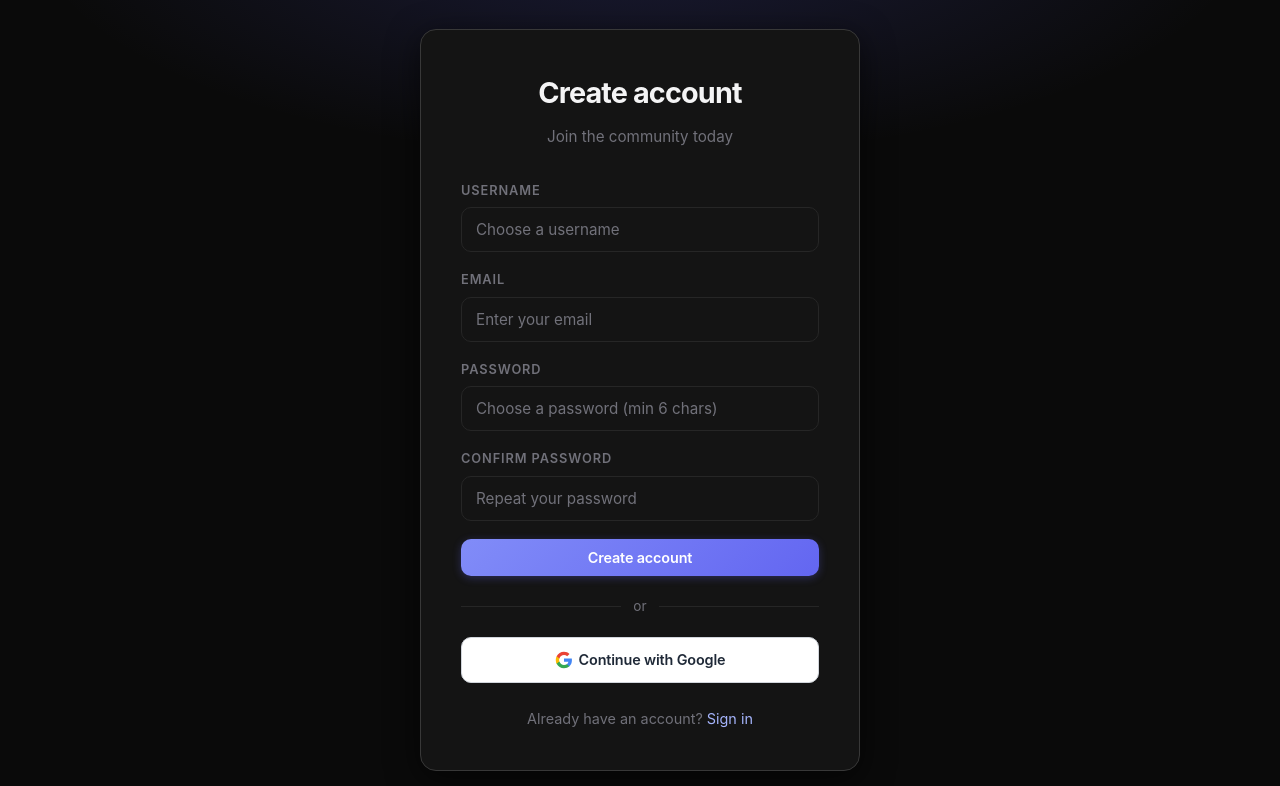
RegisterPage › Client-side validation › shows error when username is too short
The image size is (1280, 786).
Type "ab" into the field with placeholder "Choose a username".
click(640, 230); type("ab")  # box [461, 207, 819, 252]
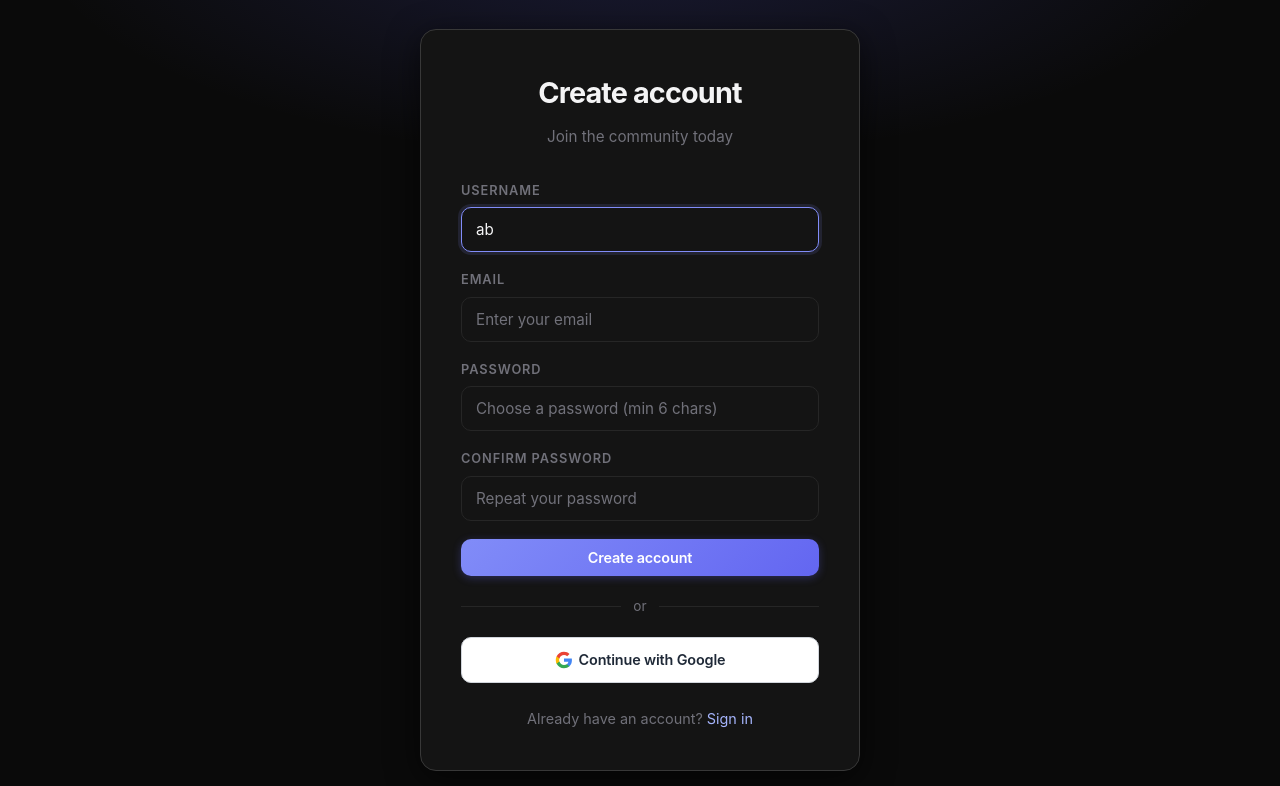
Click the button "Create account".
click(640, 557)  # box [461, 539, 819, 576]
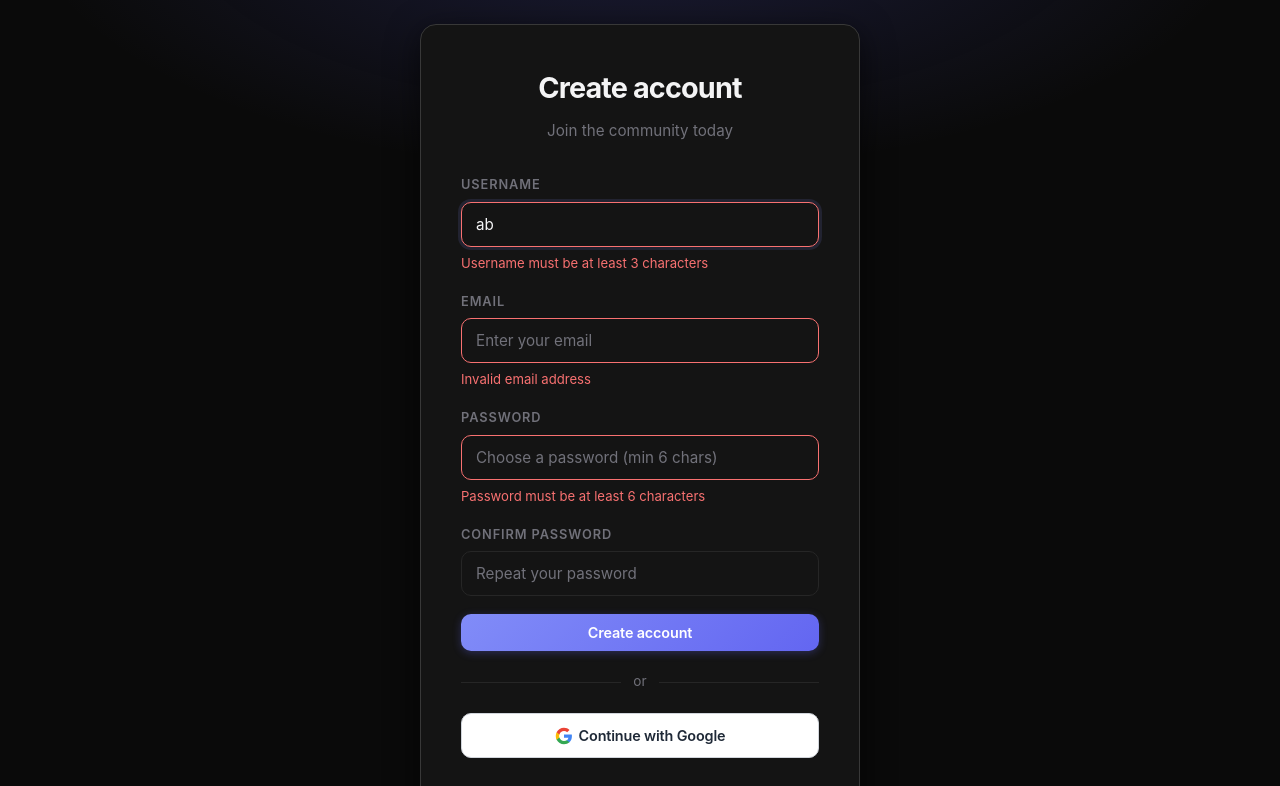
Expected: the text "Username must be at least 3 characters" is shown, [461, 255, 708, 271]
